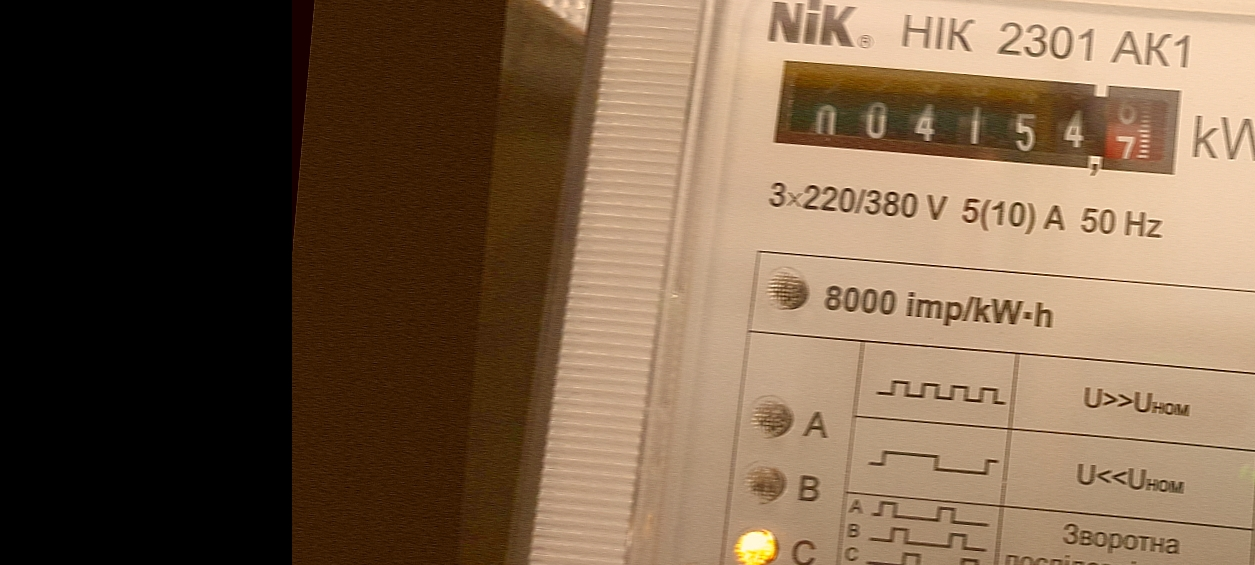0: (863, 97, 889, 140), (813, 99, 839, 135)
1: (967, 103, 984, 145)
4: (912, 100, 938, 143), (1062, 104, 1086, 149)
5: (1012, 106, 1040, 153)
6: (1116, 94, 1140, 126)
7: (1113, 130, 1136, 161)
screen: (757, 39, 1199, 192)
